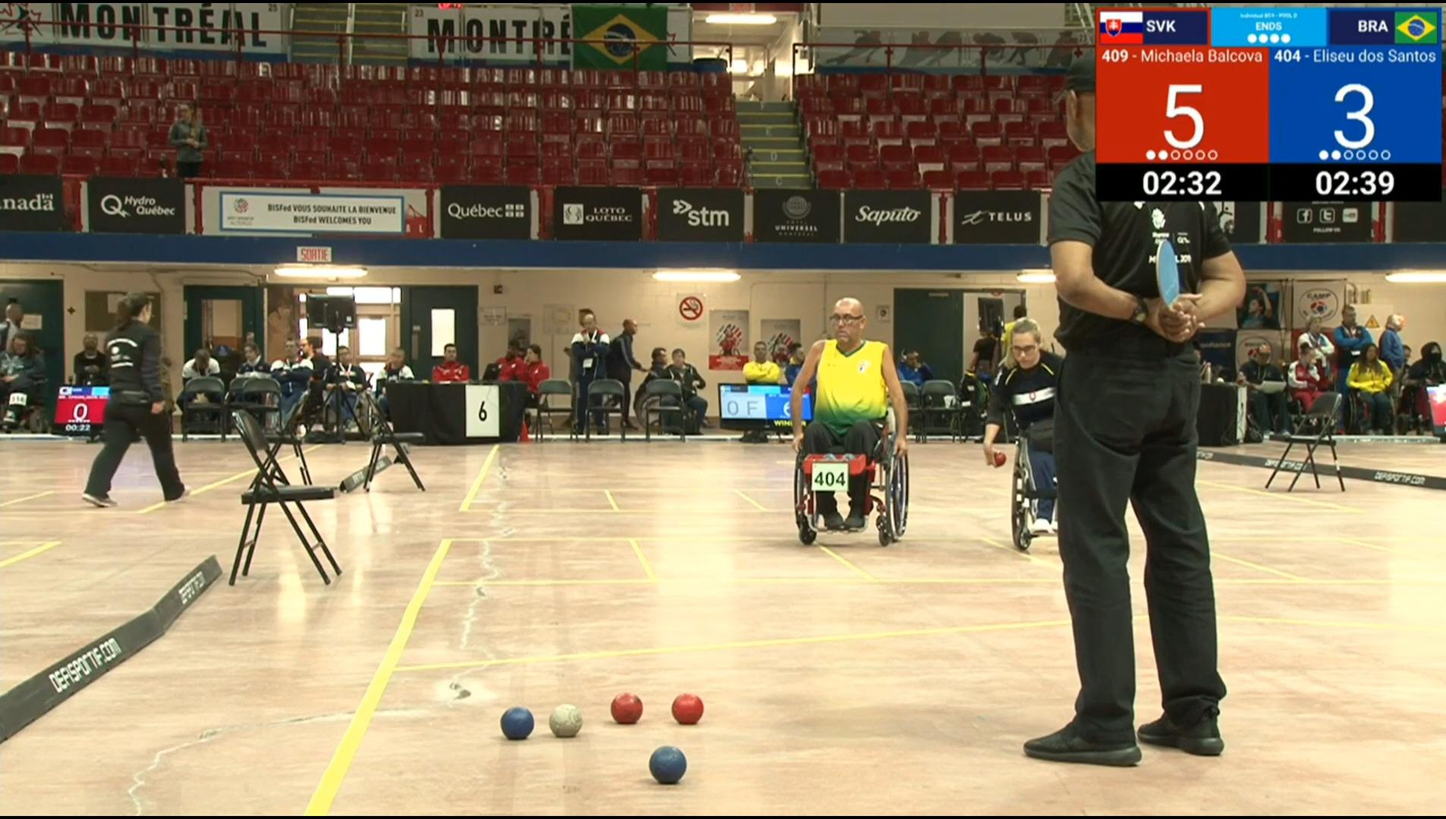blue_ball: (649, 747, 688, 784), (500, 707, 534, 739)
red_ball: (612, 691, 641, 724), (673, 695, 702, 725)
white_ball: (551, 704, 580, 736)
